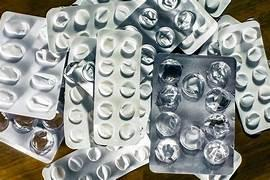pill_Strip: (149, 53, 235, 174), (0, 12, 64, 119), (219, 21, 269, 134), (94, 30, 142, 144), (120, 0, 217, 53), (46, 0, 144, 52), (42, 135, 149, 179), (46, 3, 116, 53), (64, 37, 95, 148), (0, 113, 63, 163), (64, 85, 92, 148), (66, 37, 95, 96), (77, 0, 145, 24), (68, 36, 95, 96), (199, 15, 239, 54), (139, 45, 155, 135), (195, 150, 241, 179), (140, 45, 155, 133), (64, 104, 93, 148), (75, 0, 145, 16), (71, 60, 93, 96), (138, 75, 151, 135), (139, 78, 151, 135), (140, 44, 156, 81), (197, 0, 230, 17), (218, 15, 240, 30), (140, 63, 152, 81), (74, 0, 121, 4), (78, 0, 101, 4), (72, 0, 82, 5), (268, 60, 270, 65)
